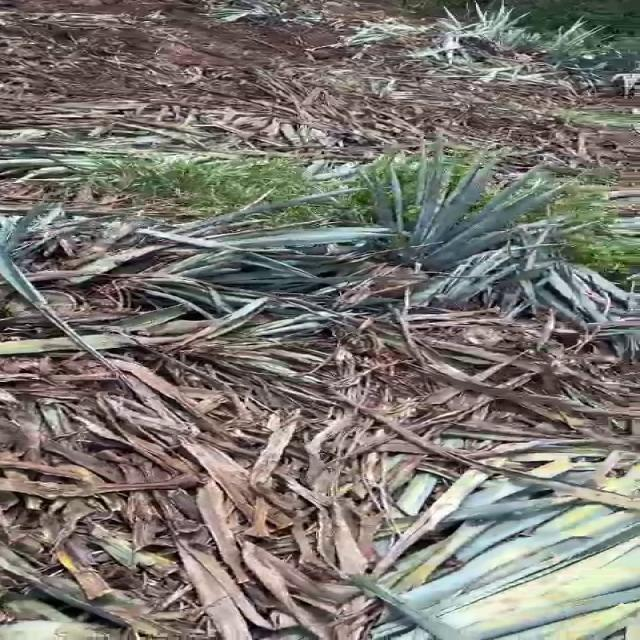agave: (351, 154, 547, 322)
